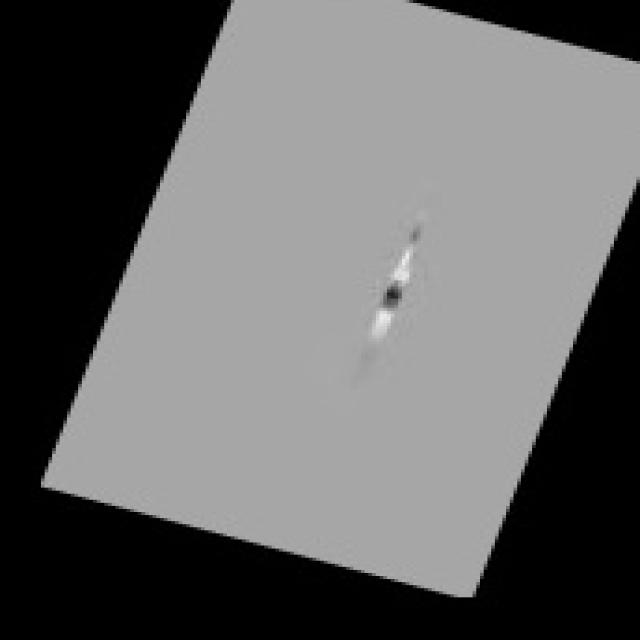Defect5: (354, 213, 427, 376)
